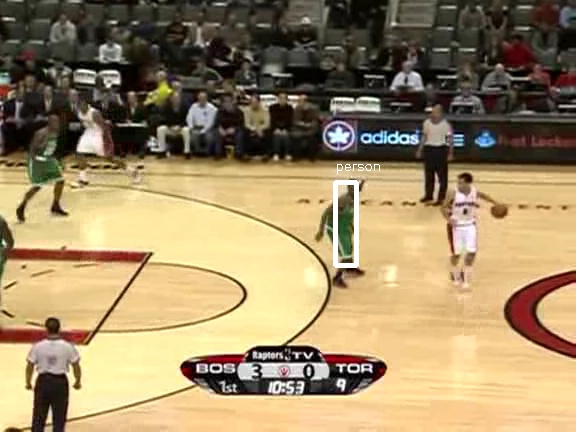person: (328, 190, 362, 271), (327, 190, 361, 271), (329, 190, 363, 271), (328, 189, 362, 270), (328, 191, 362, 272)
target_negative: (56, 57, 258, 326), (181, 67, 290, 329), (83, 222, 179, 291), (153, 213, 551, 227), (532, 71, 544, 286), (554, 197, 570, 322)
